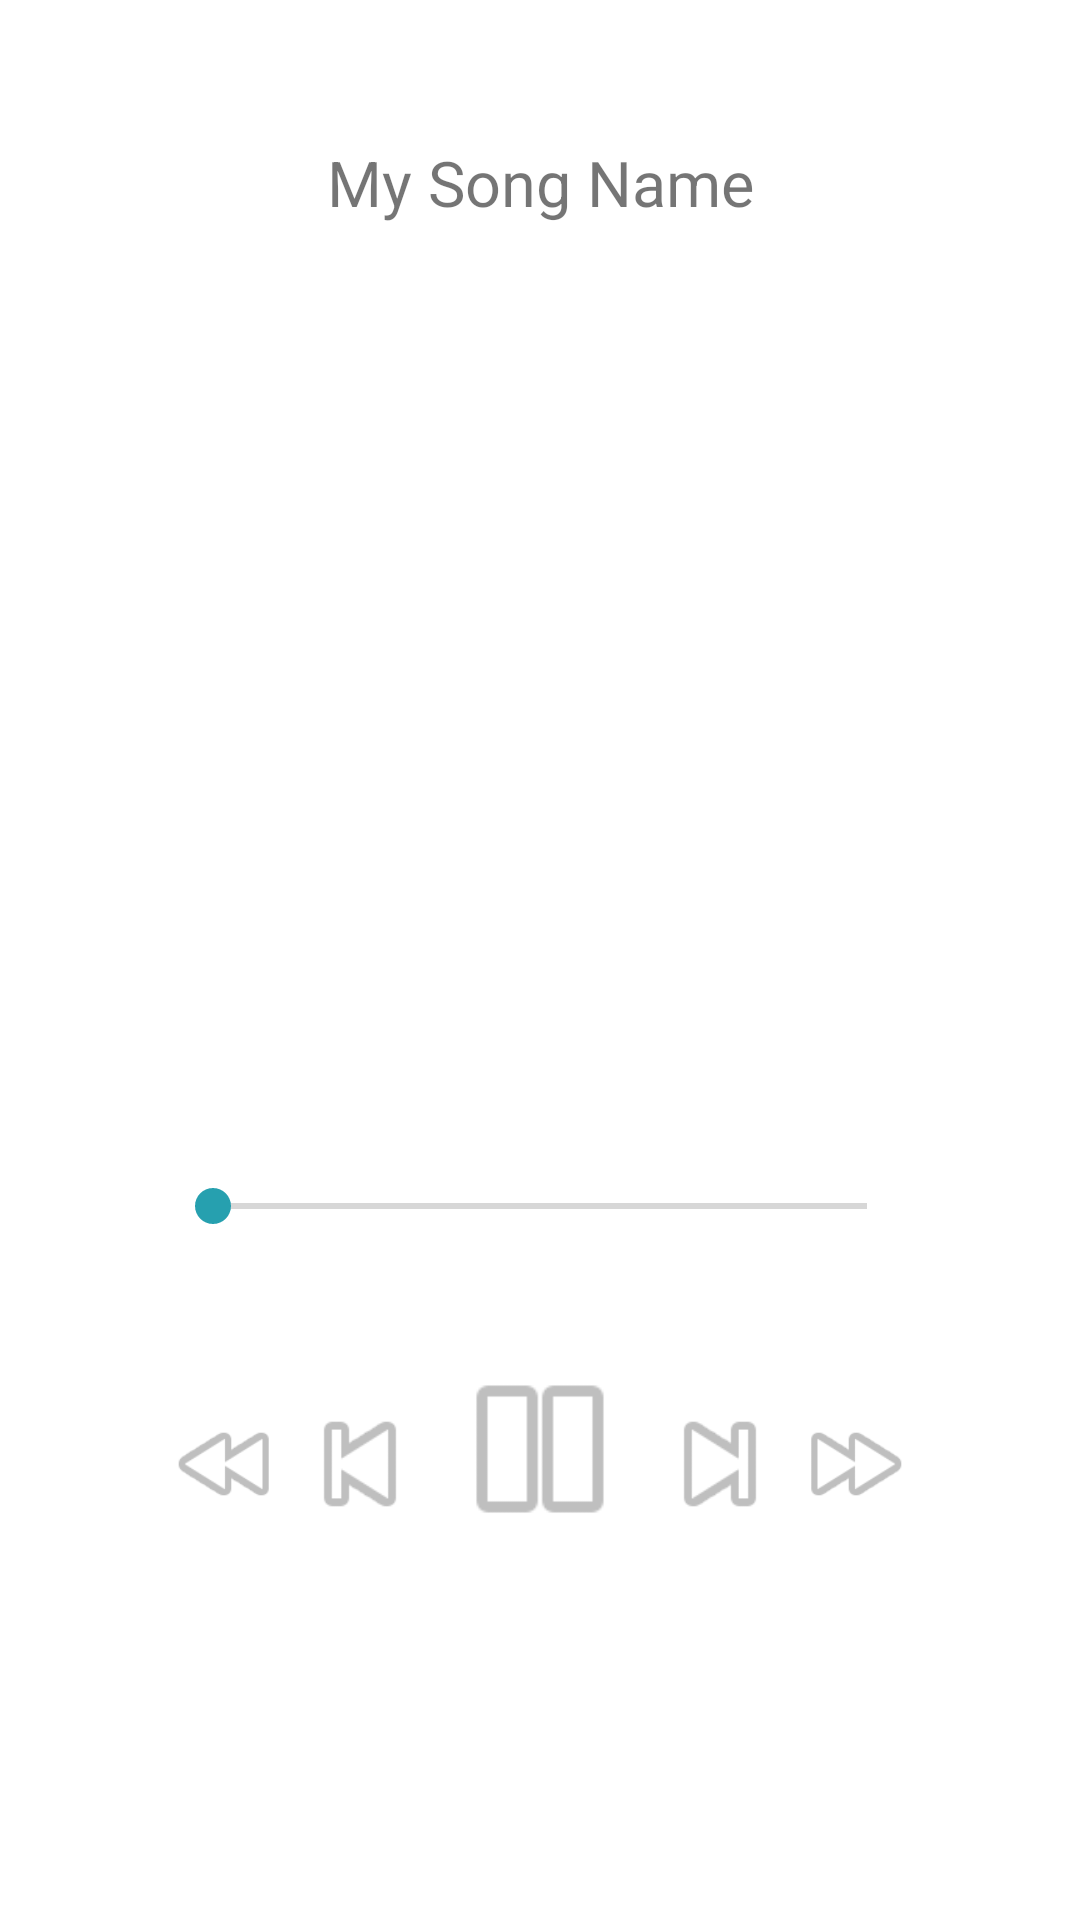

Named icons in this screenshot (1080px×1920px) and their centers, (x,y):
next: (720,1464)
pause: (540,1449)
previous: (360,1464)
rew: (224,1464)
